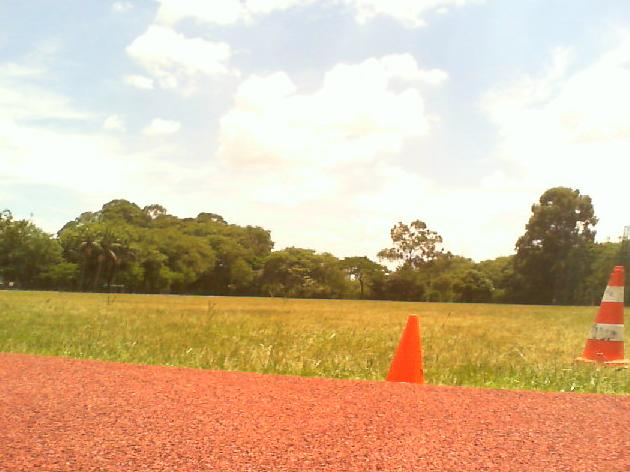0 cone: (575, 267, 630, 369), (387, 315, 424, 385)
